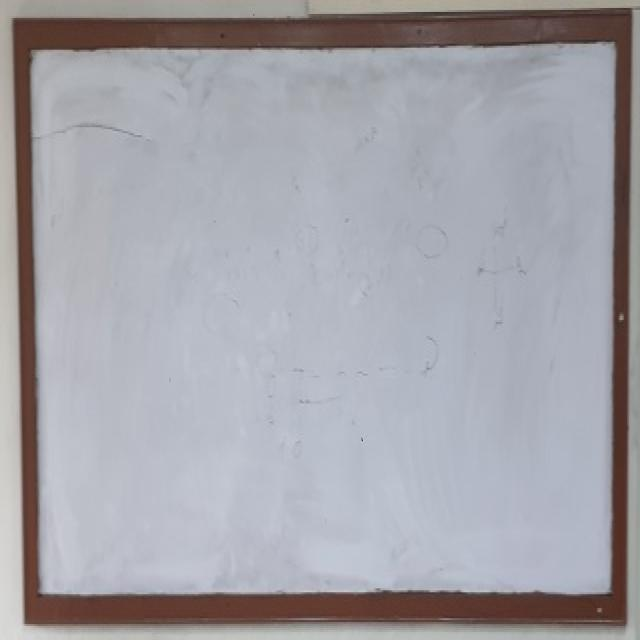White-board: (24, 29, 629, 613)
